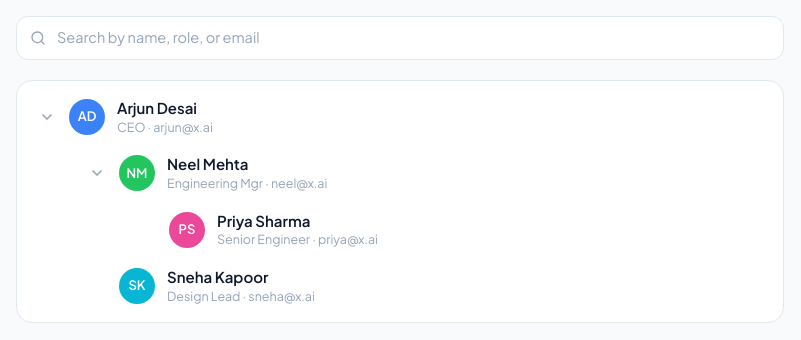
HierarchyTree › re-expands on a second click
Click the text "Neel Mehta" at [208, 164], box [167,154,248,173]
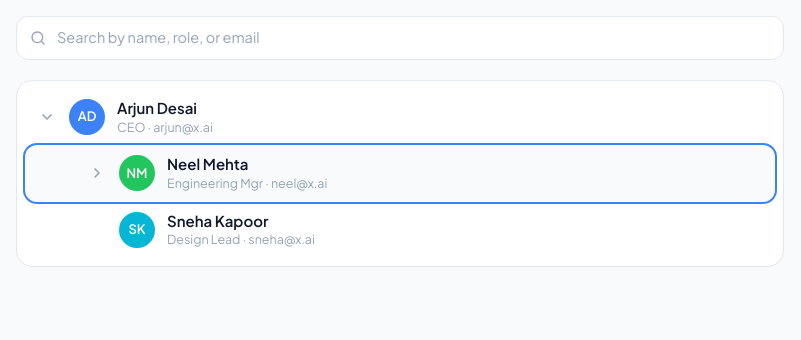
Click the text "Neel Mehta" at [208, 164], box [167,154,248,173]
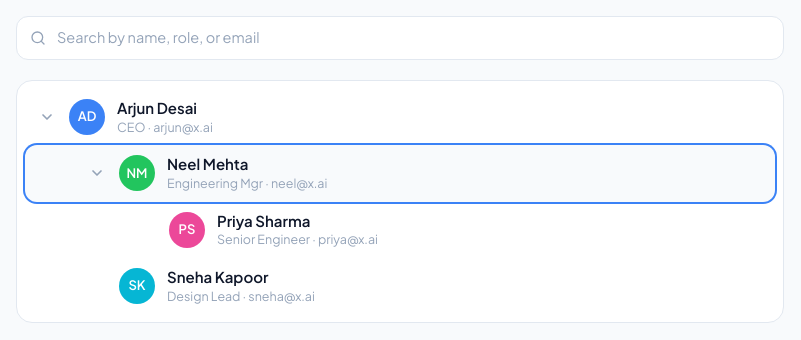
Expected: the text "Priya Sharma" is shown, [217,210,310,230]
